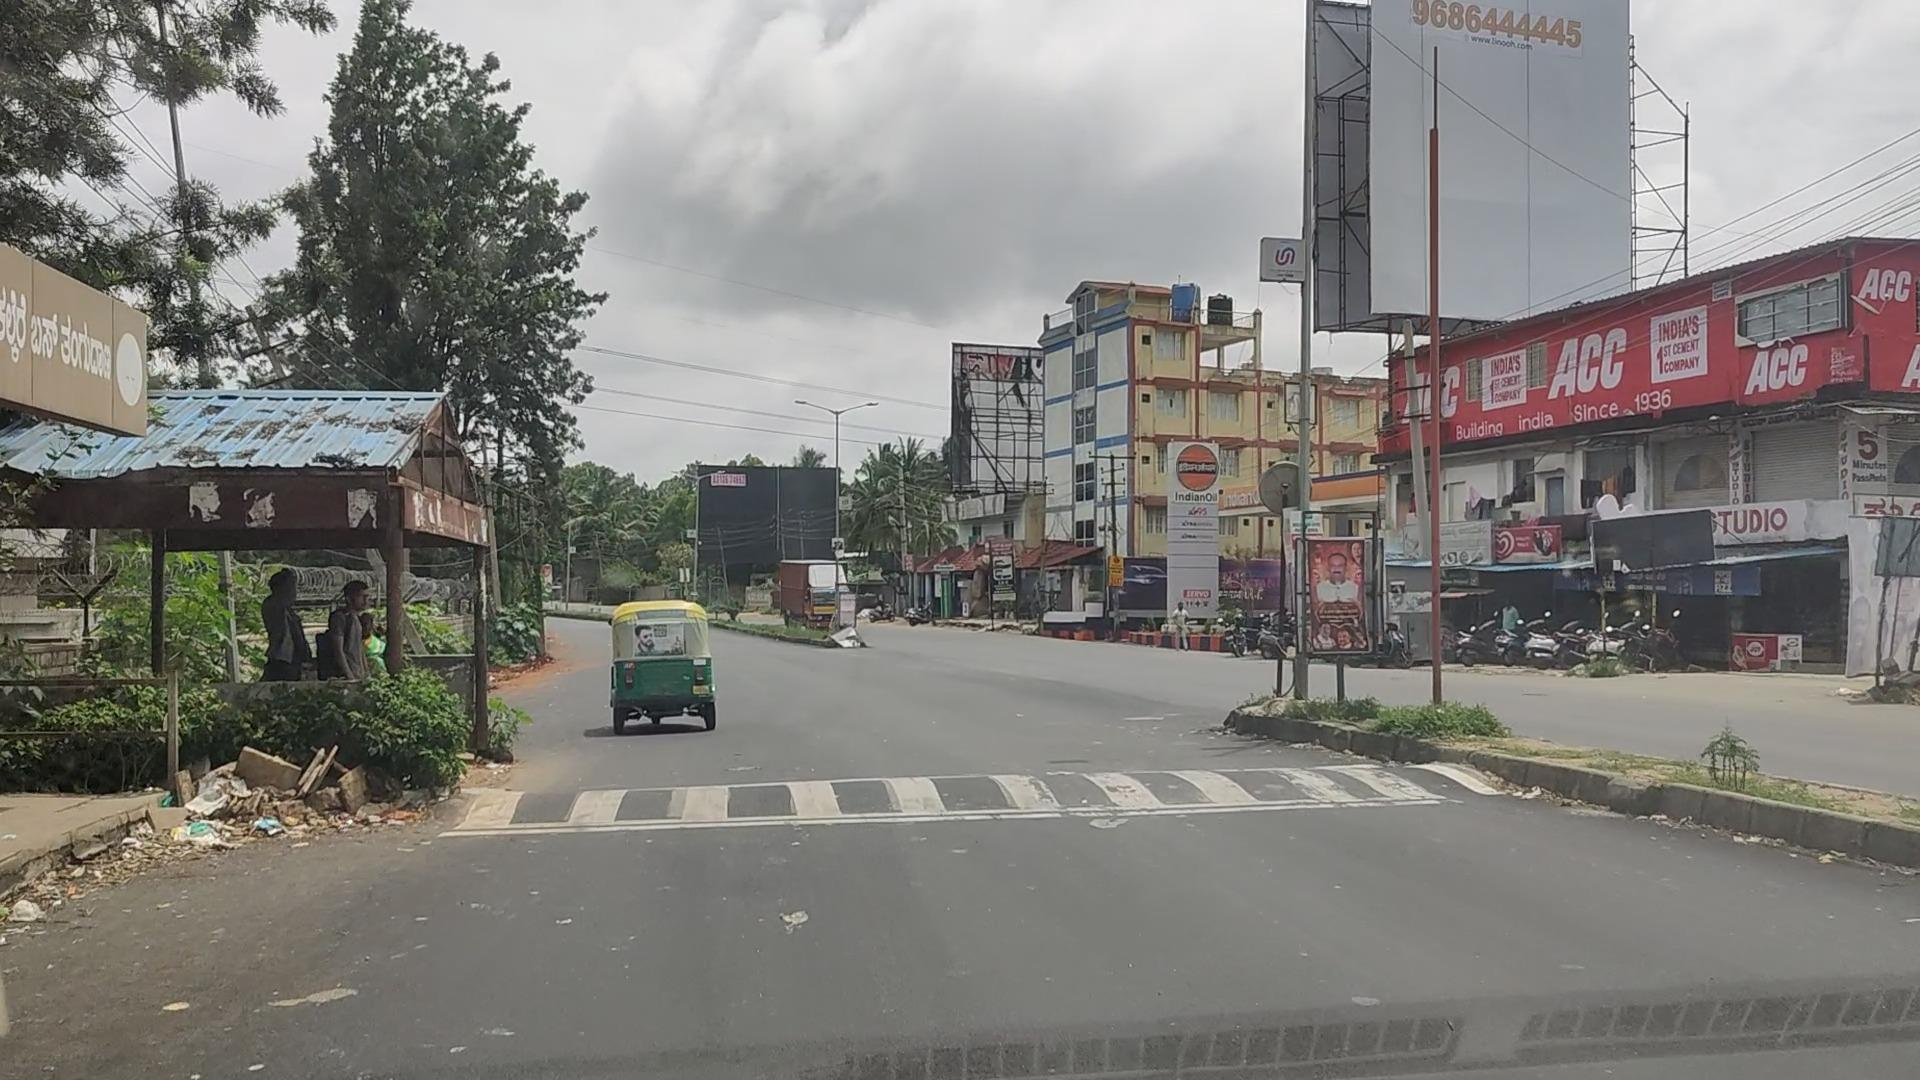LMV: (611, 599, 721, 725)
SpeedBump: (458, 753, 1491, 837)
